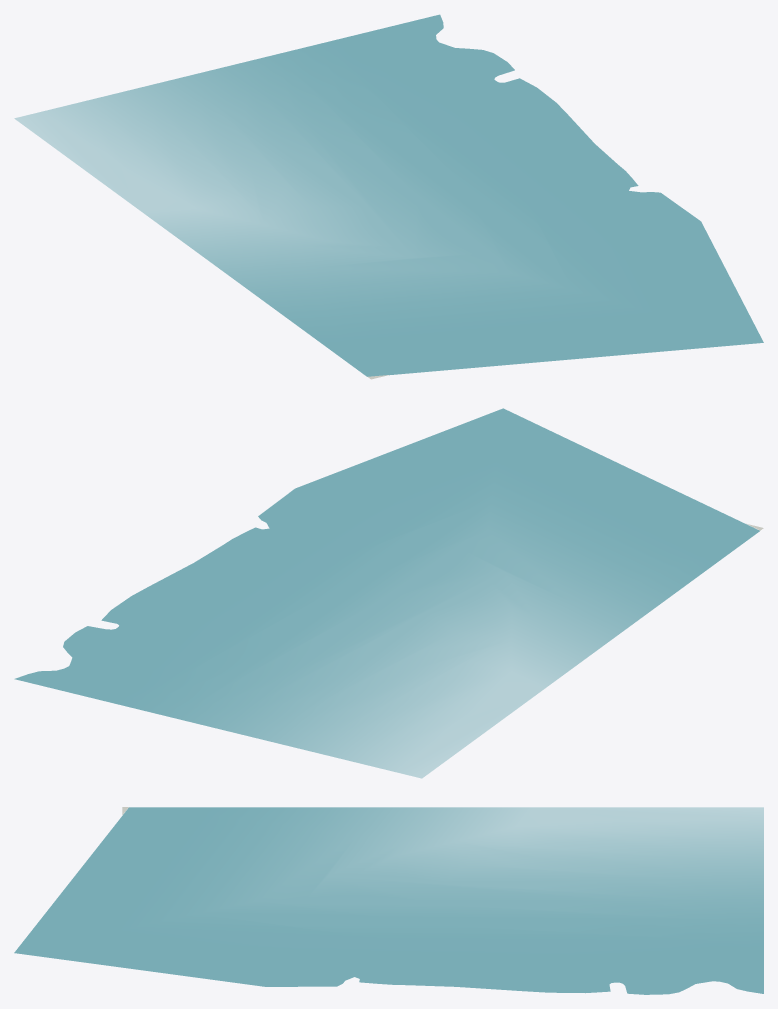
The picture shows the model from 3 angles, top to bottom: view 1: azimuth 30°, elevation 25°; view 2: azimuth 150°, elevation 25°; view 3: azimuth 270°, elevation 25°; orthographic projection. The views are drawn at different scales.
Visible parts, largest first — view 1: city; view 2: city; view 3: city.
Part boxes in pixels (x1,y1,x2,y2): city: [14, 14, 763, 379]; city: [14, 408, 763, 778]; city: [14, 807, 763, 994].
Size of the model in its own units: 278 by 0.18 by 469.
